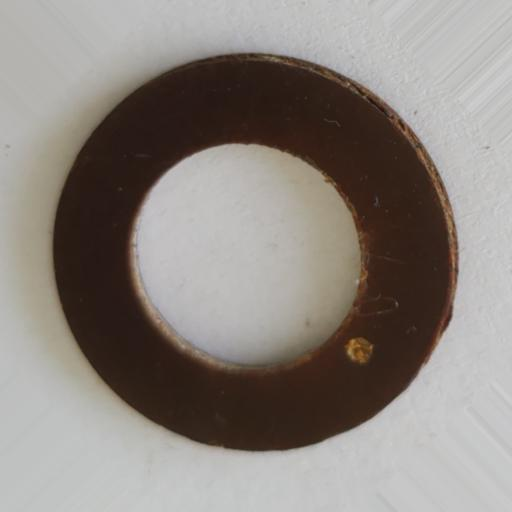defect: (344, 337, 374, 365)
